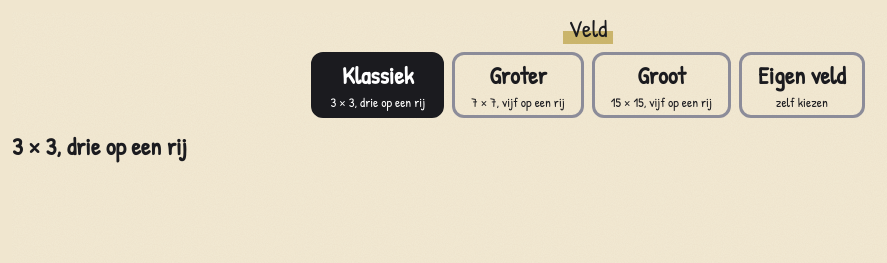
Scenario: FieldPicker › has no lists until you want a field of your own, and then only odd numbers
expect the field labelled "Breedte" is not shown: met
Click the button "Eigen veld zelf kiezen": (802, 85) [739,52,865,118]
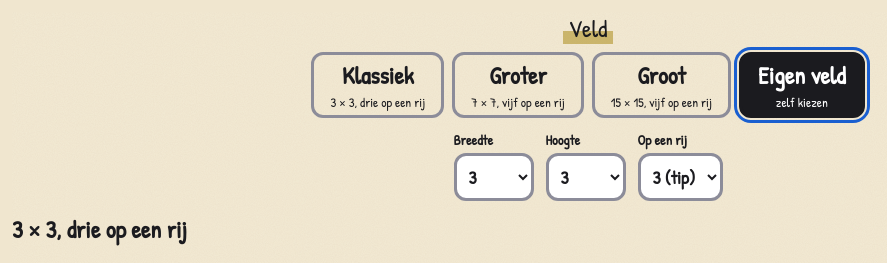
expect the dropdown labelled "Hoogte" is shown: met, box [546,153,626,201]
expect the dropdown labelled "Op een rij" is shown: met, box [638,153,722,201]
